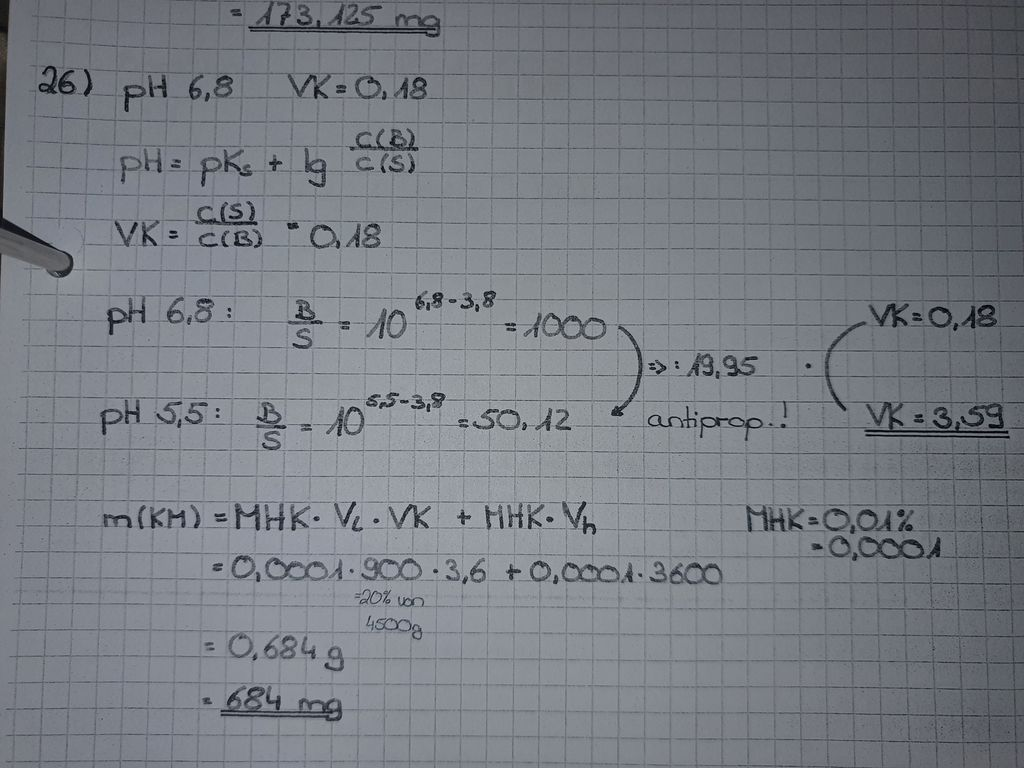equals: (496, 302, 529, 343), (331, 307, 363, 344), (163, 217, 186, 245), (450, 407, 473, 435), (166, 150, 189, 176), (193, 689, 216, 712), (908, 300, 928, 325), (804, 535, 825, 556), (283, 212, 302, 235), (296, 415, 313, 440), (211, 504, 230, 526), (805, 509, 823, 530), (333, 77, 350, 99), (209, 555, 224, 575), (911, 408, 924, 427)
equation: (90, 480, 626, 545), (230, 370, 598, 464), (275, 279, 611, 361), (111, 114, 435, 195), (197, 546, 735, 590), (738, 492, 953, 570), (105, 196, 385, 255), (853, 390, 1017, 447), (182, 677, 356, 727), (276, 62, 449, 111), (196, 625, 352, 675), (863, 288, 1003, 337), (201, 629, 223, 664)
fraction: (346, 123, 428, 178), (193, 203, 273, 254), (242, 392, 290, 453), (282, 291, 327, 355)
seperator: (448, 500, 475, 535), (260, 147, 289, 179), (500, 561, 524, 583), (365, 510, 384, 529), (307, 507, 325, 527), (542, 510, 560, 529), (447, 293, 461, 308), (429, 563, 441, 579), (398, 395, 411, 407), (635, 568, 643, 581), (348, 564, 355, 577)
term: (229, 493, 605, 538), (321, 381, 446, 452), (368, 287, 496, 353), (299, 123, 429, 186), (469, 389, 584, 447), (217, 680, 351, 723), (101, 491, 206, 538), (228, 631, 347, 672), (524, 294, 608, 351), (825, 531, 945, 564), (226, 553, 344, 586), (526, 553, 634, 587), (825, 501, 929, 534), (741, 499, 804, 545), (196, 141, 255, 190), (644, 555, 729, 588), (308, 215, 383, 252), (929, 401, 1007, 436), (229, 500, 308, 534), (114, 136, 167, 186), (411, 287, 495, 318), (927, 297, 999, 332), (353, 71, 434, 101), (482, 497, 545, 534), (366, 386, 443, 414), (358, 553, 426, 584), (384, 497, 435, 533), (116, 212, 160, 252), (865, 399, 908, 437), (559, 497, 600, 536), (442, 553, 489, 586), (288, 67, 333, 99), (868, 297, 913, 329), (333, 496, 364, 536)
